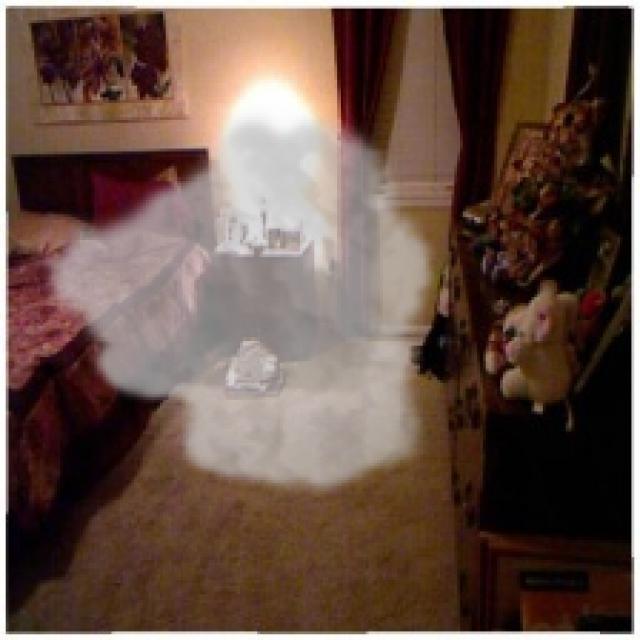Smoke: (37, 103, 440, 500)
